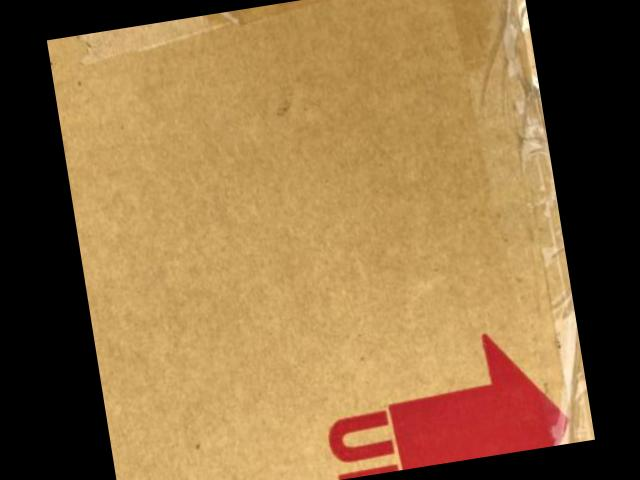cardboard paper: (45, 0, 595, 480)
